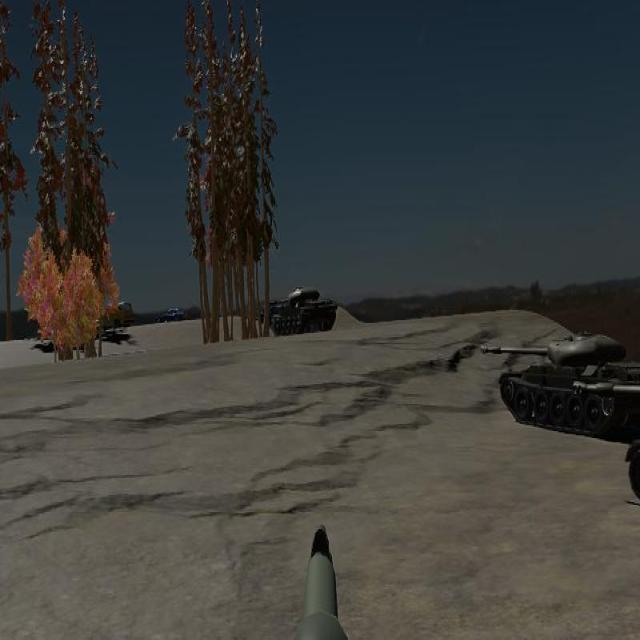Tank: (478, 329, 640, 439), (261, 285, 337, 337)
